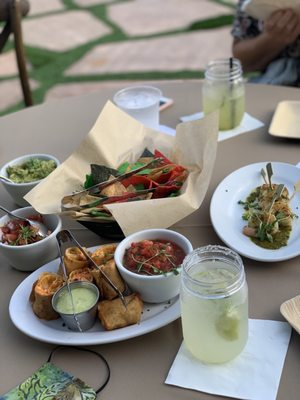pizza: (179, 245, 250, 365), (111, 85, 172, 130), (51, 280, 100, 332)
sushi: (114, 228, 193, 305), (0, 204, 62, 272), (0, 153, 61, 205)
